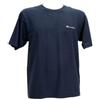abbigliamento_uomo: (8, 4, 92, 100)
